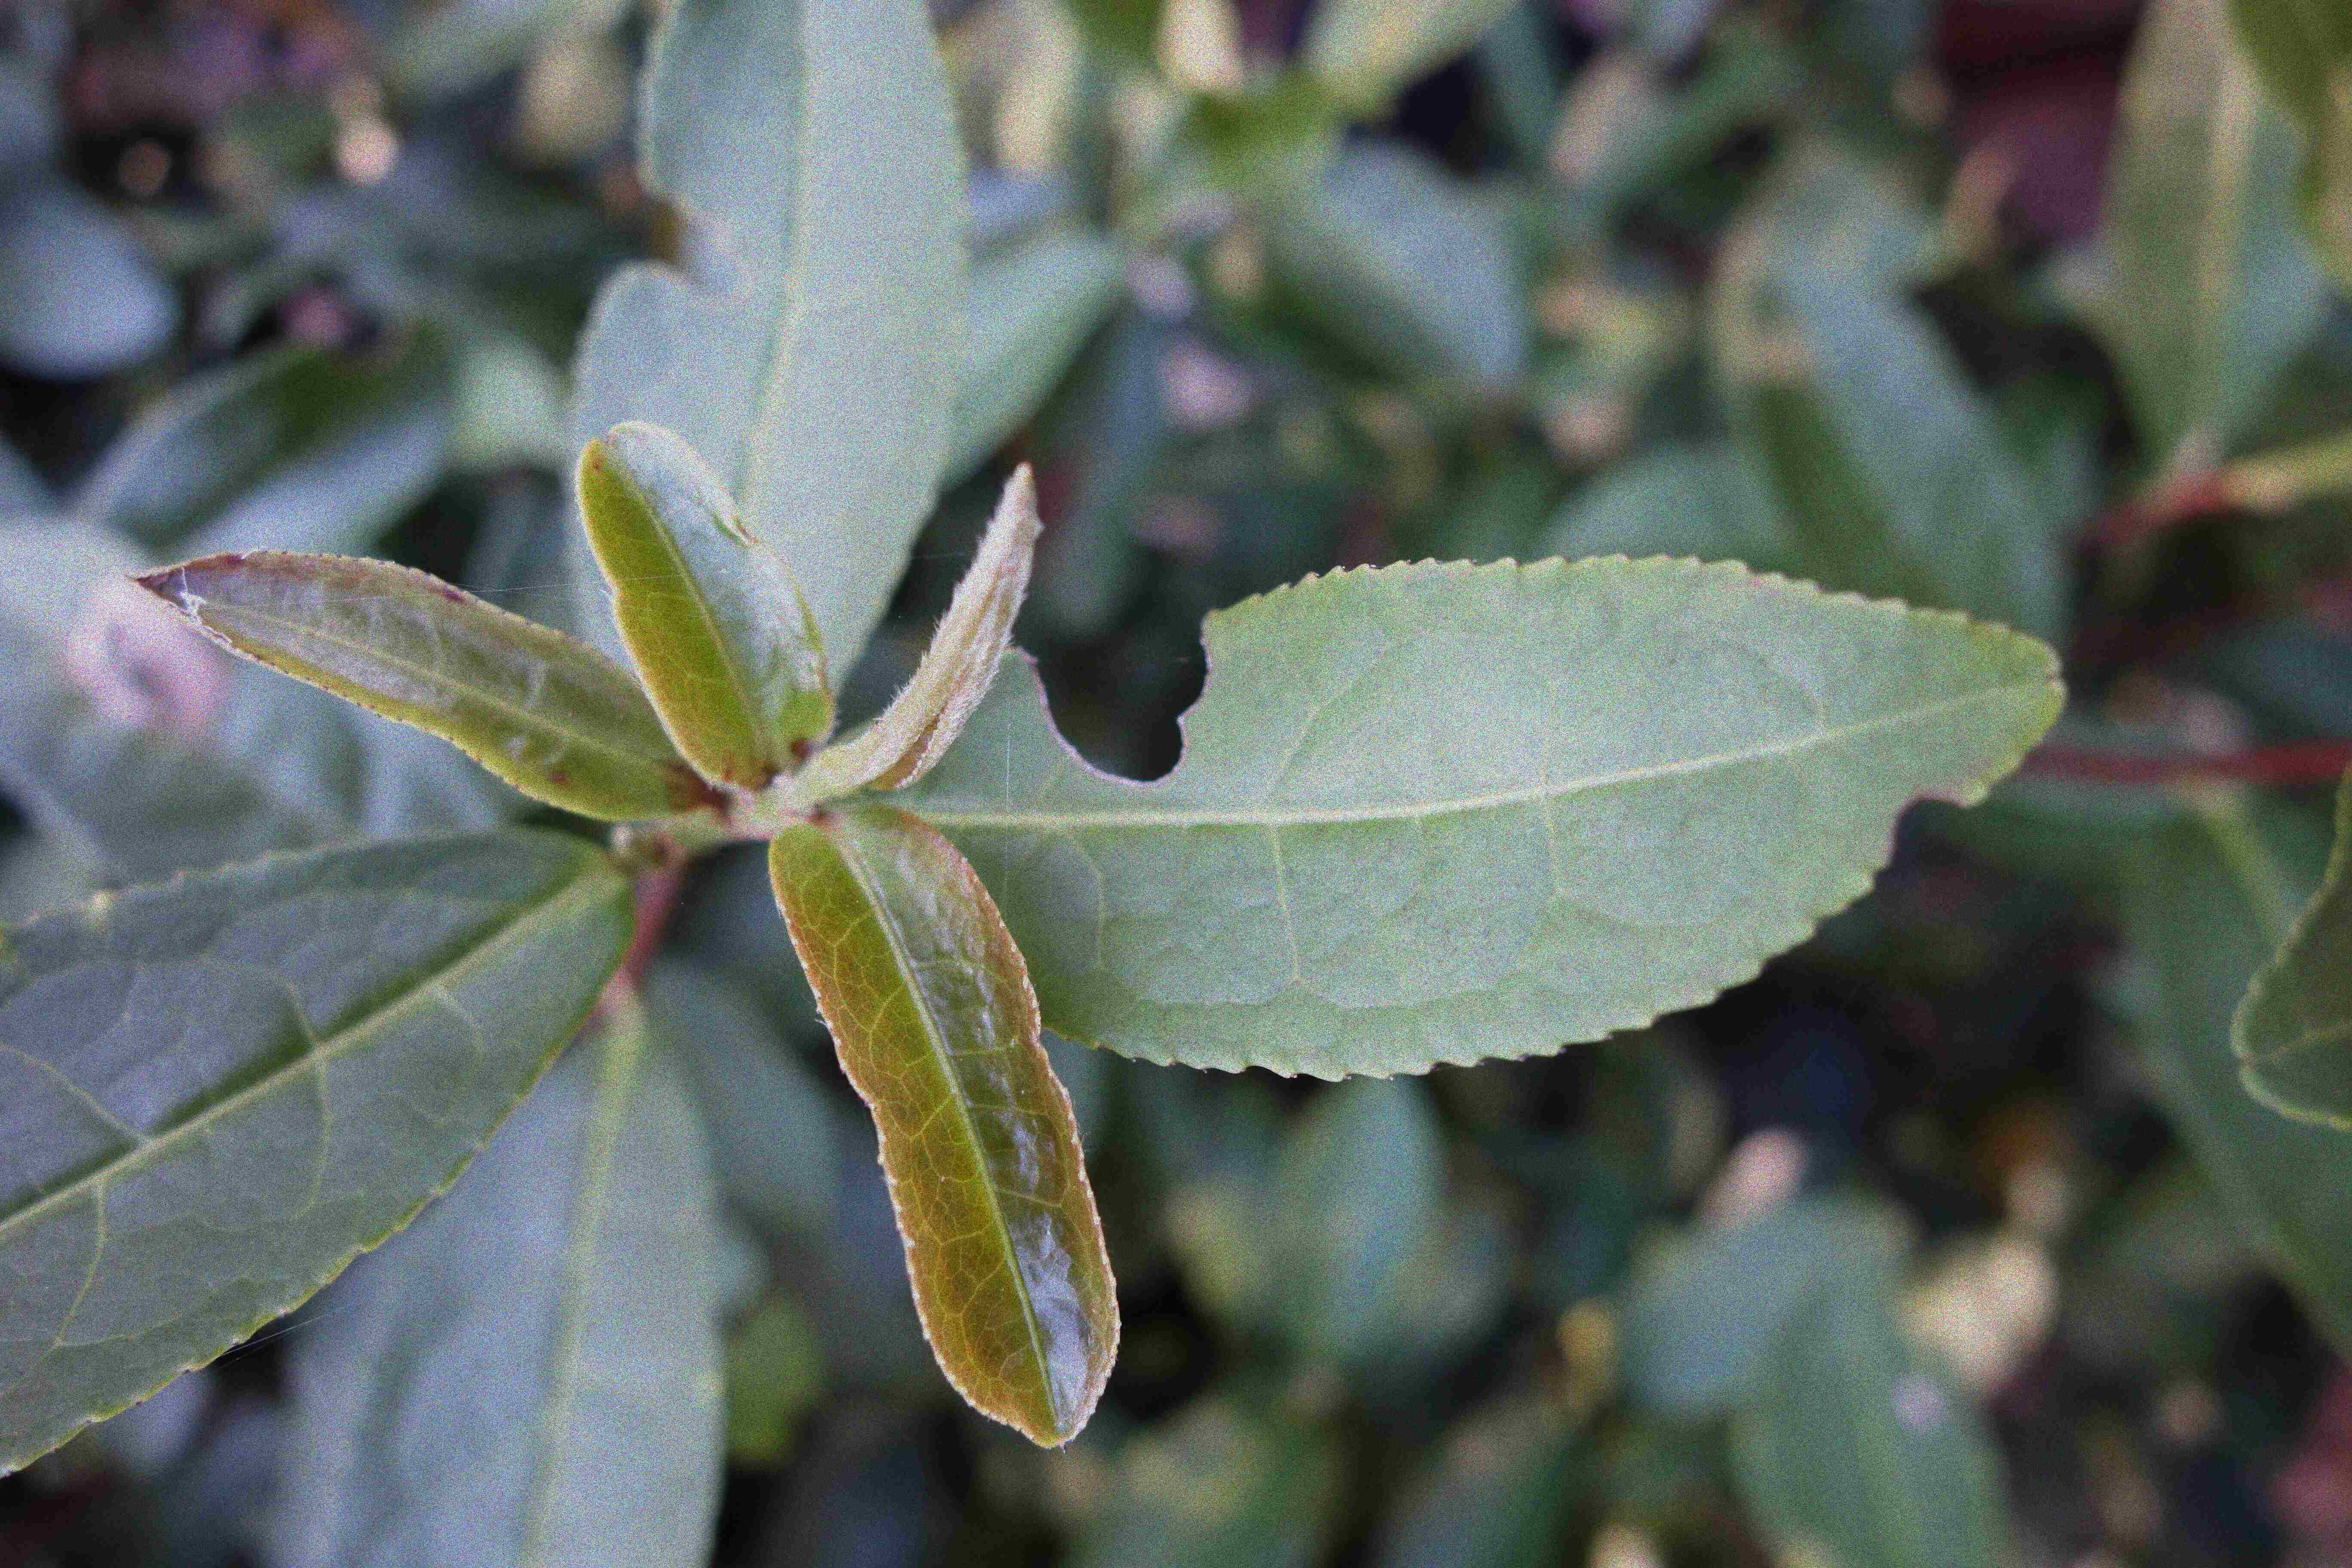chihuo_high: (982, 562, 2067, 1083)
healthy: (2, 828, 647, 1480)
tanju_low: (759, 803, 1118, 1454), (122, 551, 742, 822), (574, 425, 833, 796)
